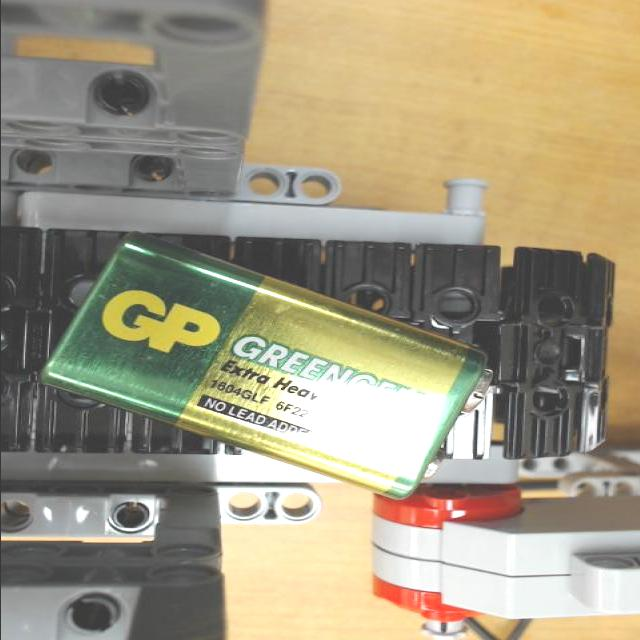9V: (40, 242, 488, 498)
